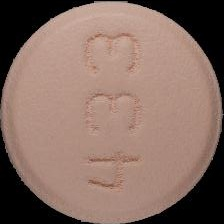16590-037: (0, 0, 224, 224)
